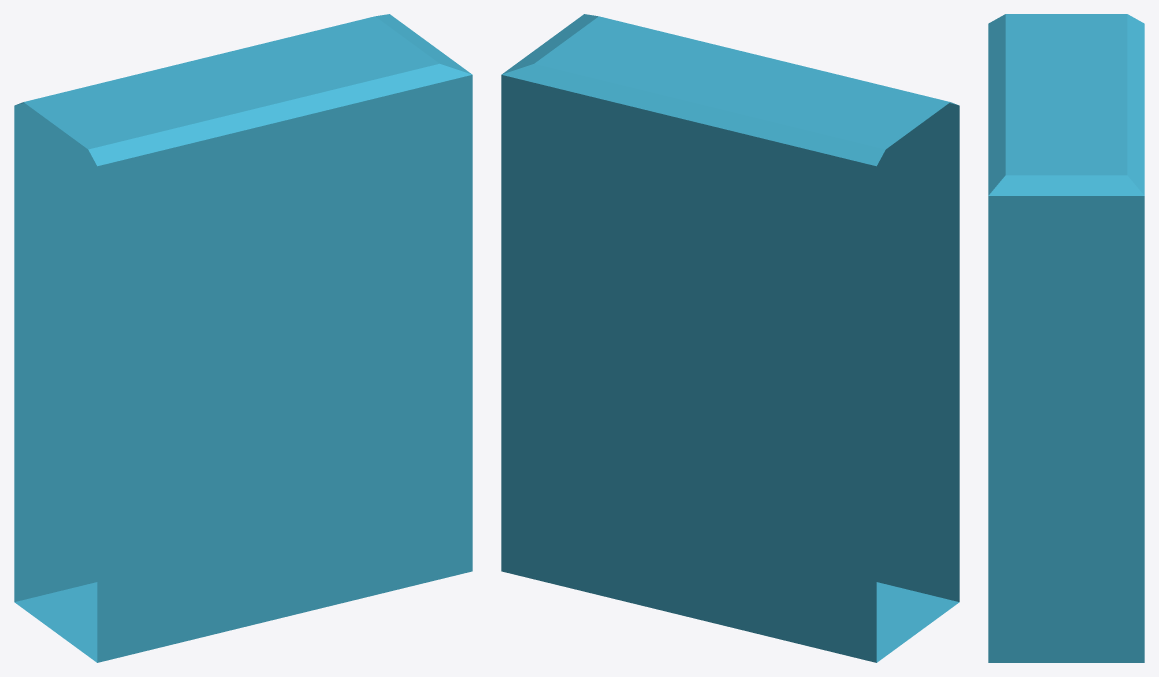
Rendered from Itr_Couch_Outside_Back_Right_05.FBX.
The picture shows the model from 3 angles, left to right: view 1: azimuth 30°, elevation 25°; view 2: azimuth 150°, elevation 25°; view 3: azimuth 270°, elevation 25°; orthographic projection. The views are drawn at different scales.
Parts seen in each view (by area): view 1: Itr_Couch_Outside_Back_Right_05; view 2: Itr_Couch_Outside_Back_Right_05; view 3: Itr_Couch_Outside_Back_Right_05.
Boxes of the visible parts, x1=… form: Itr_Couch_Outside_Back_Right_05: x1=14, y1=14, x2=472, y2=662; Itr_Couch_Outside_Back_Right_05: x1=501, y1=14, x2=959, y2=662; Itr_Couch_Outside_Back_Right_05: x1=988, y1=14, x2=1144, y2=662.
Bounding box in the file's own units: 18.79 × 24.24 × 7.19.
